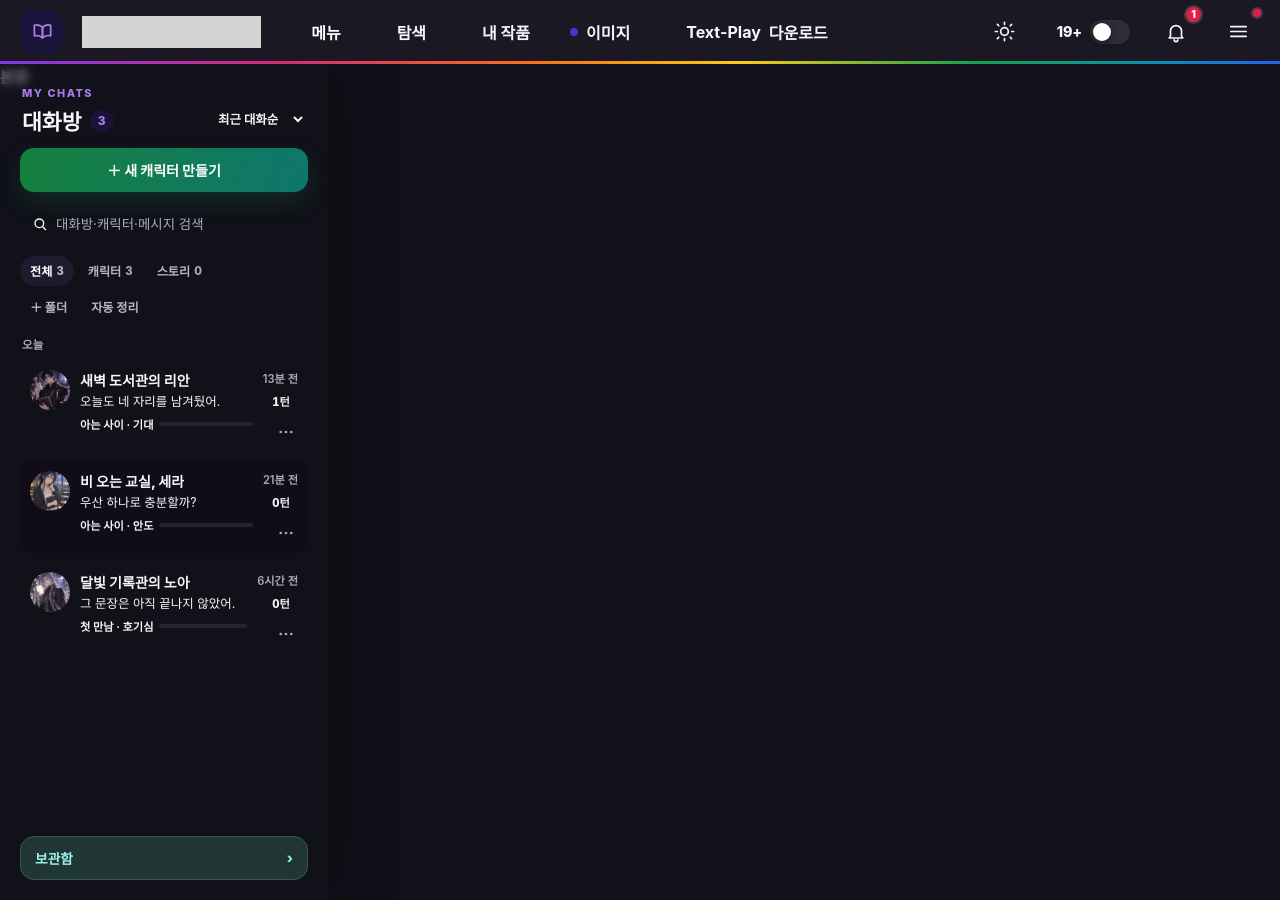
Test: 왼쪽 대화방 창 › 더보기 메뉴로 이름을 바꾸고 Escape로 메뉴만 닫는다
This screenshot has width=1280, height=900.
Click the button named "비 오는 교실, 세라 더보기" at [286, 533], box [270,519,302,547]
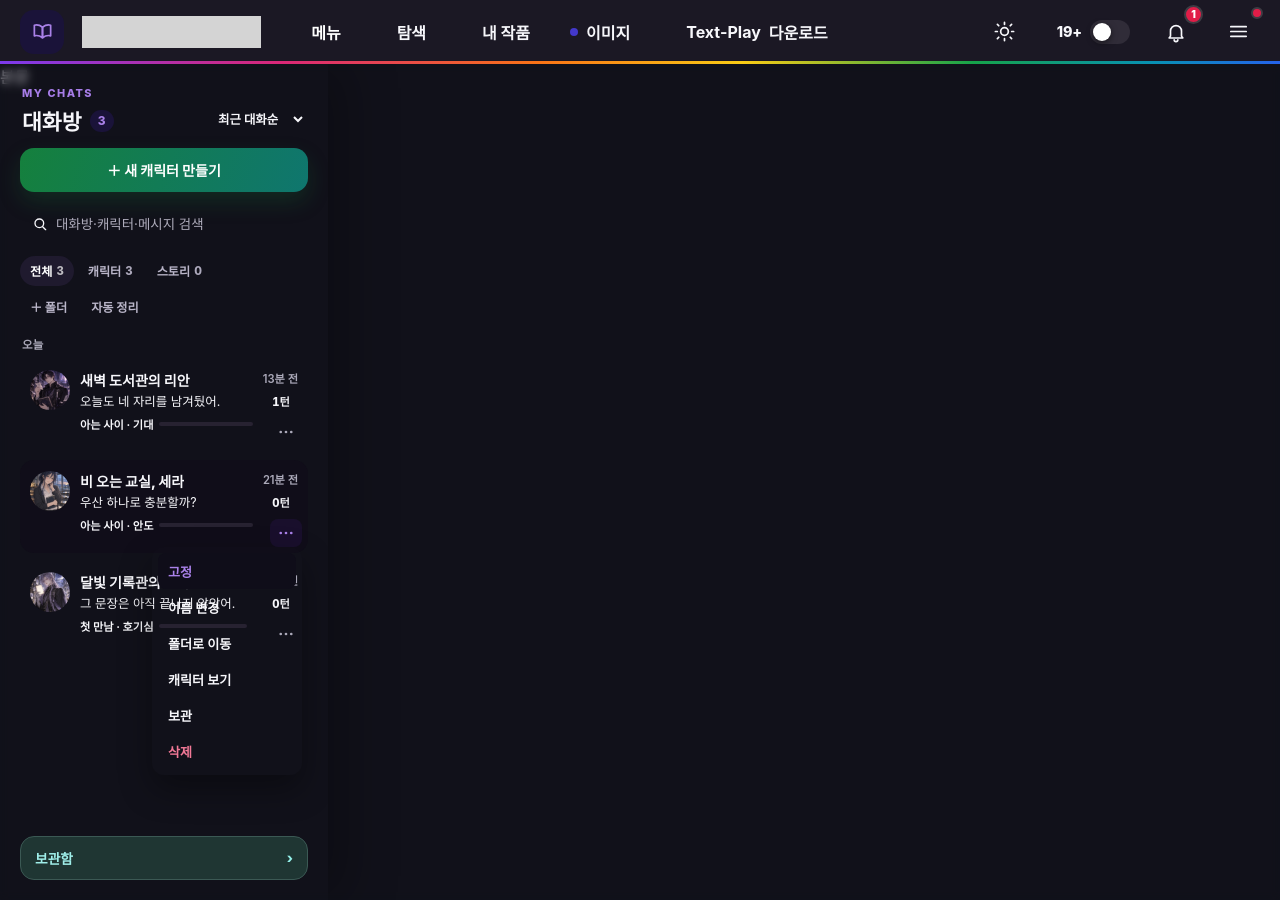
Press Escape
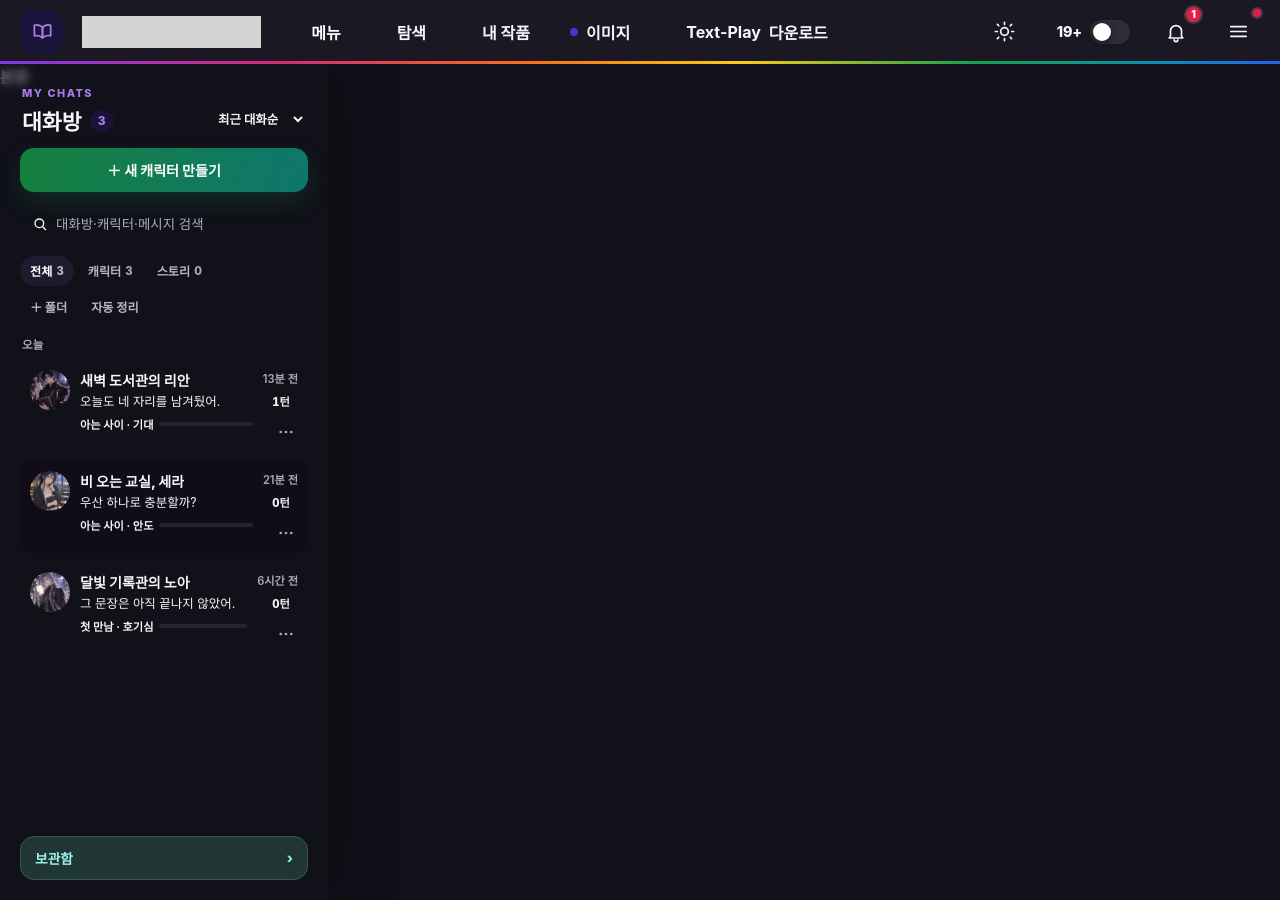
Expected: the menu is gone
Click the button named "비 오는 교실, 세라 더보기" at [286, 533], box [270,519,302,547]
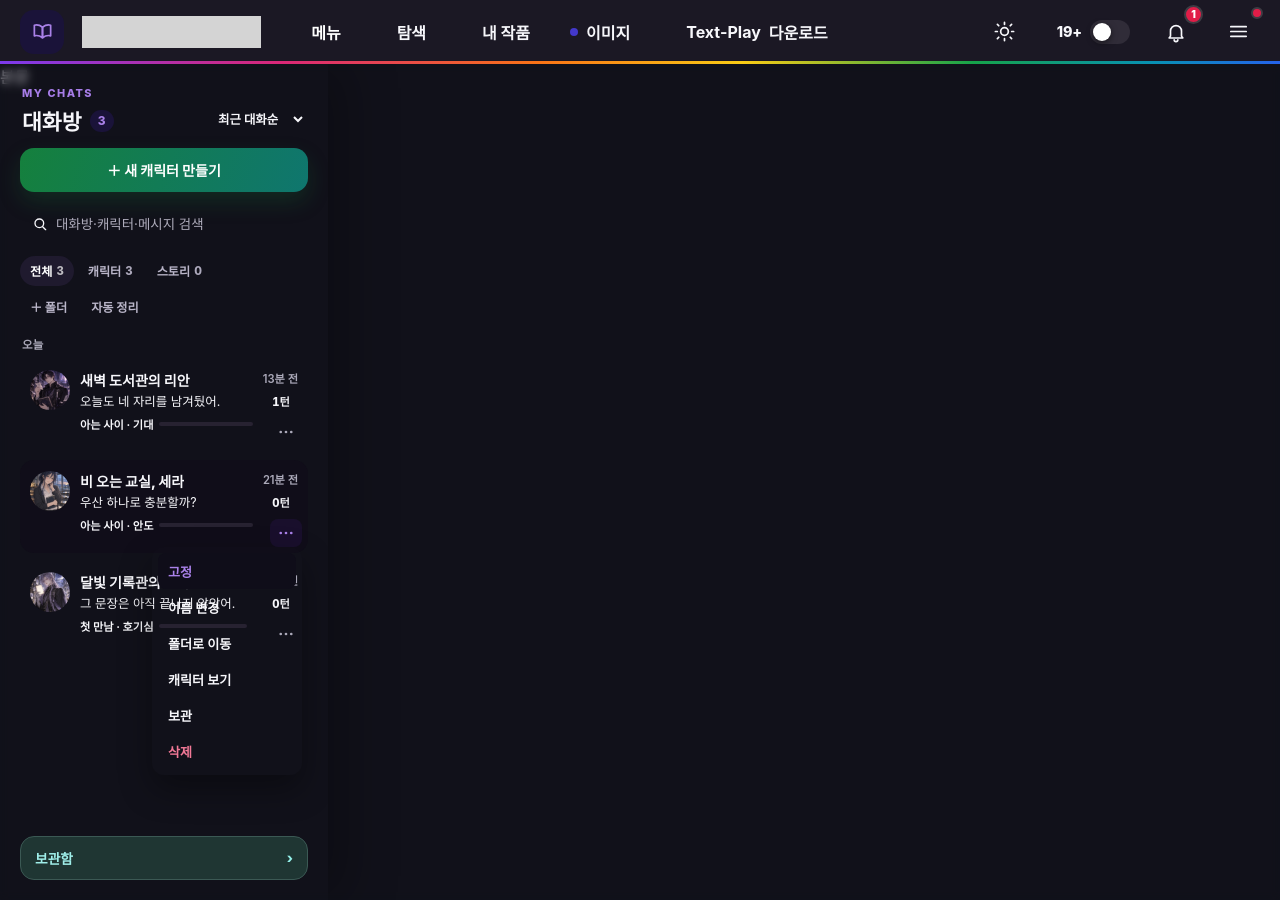
Click the menu item "이름 변경" at [227, 607], box [158,589,296,625]
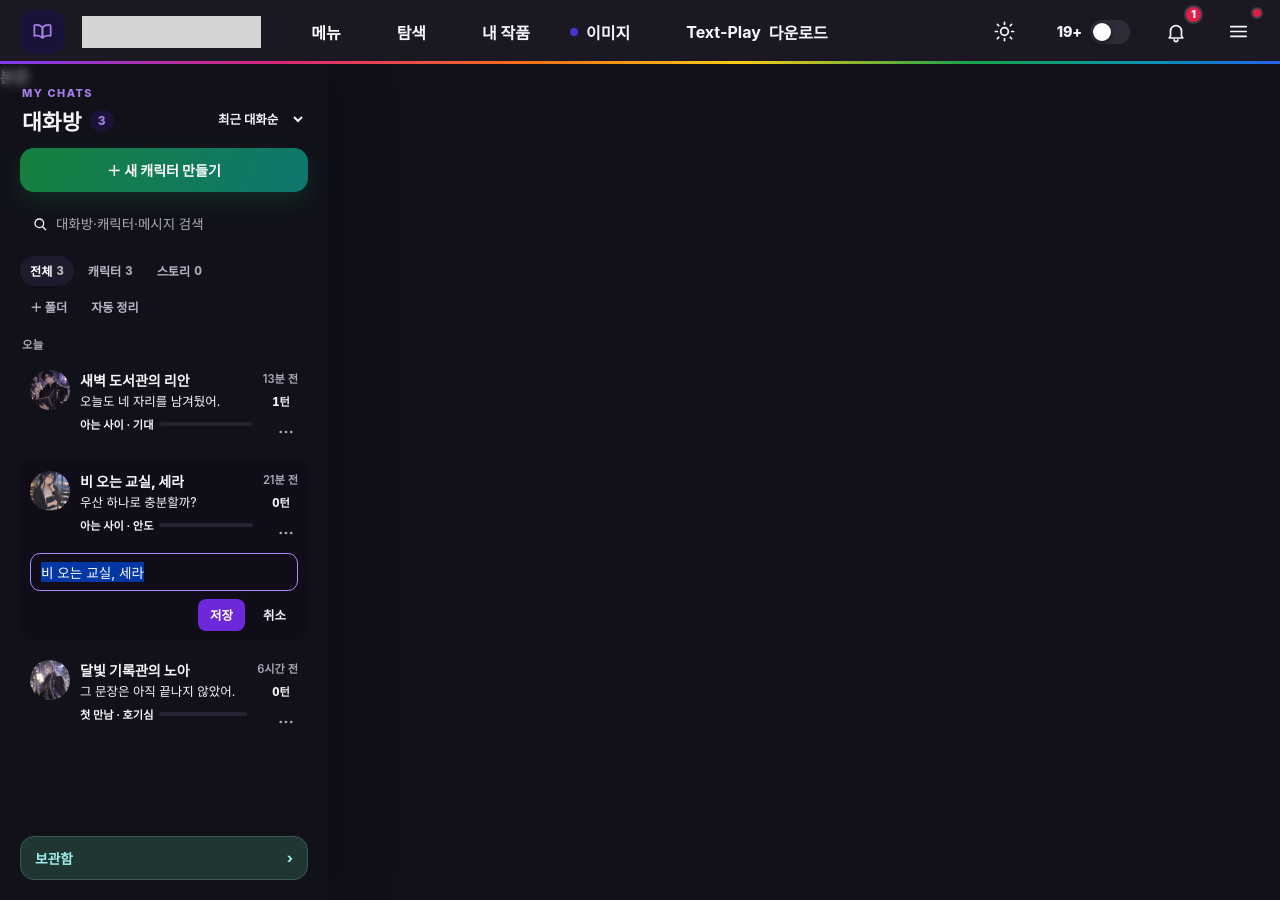
Replace the text in the field named "대화방 이름" with "우산 속 대화" at [164, 572], box [30,553,298,591]
Then press Enter
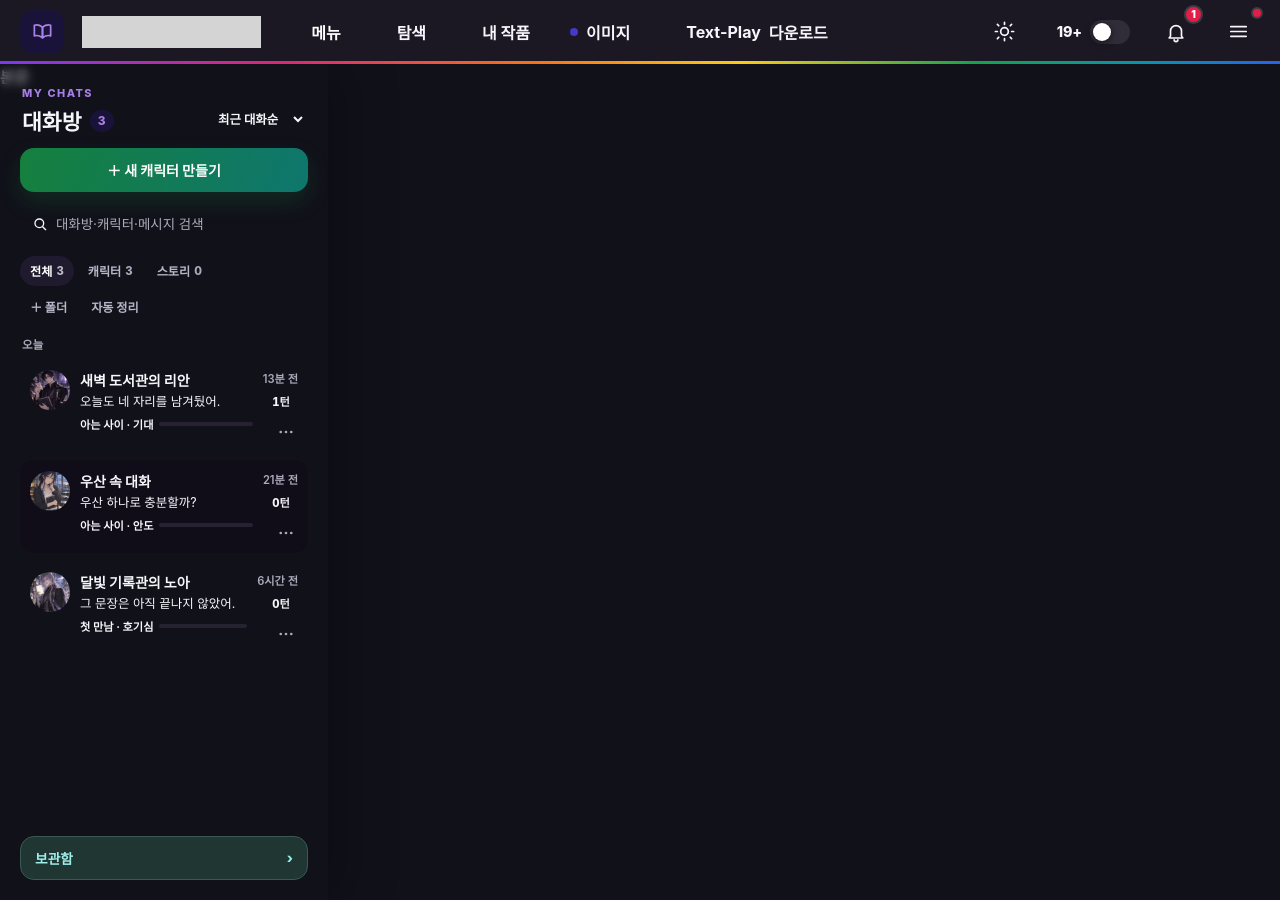
Expected: the text "우산 속 대화" is shown, [80,471,151,491]
